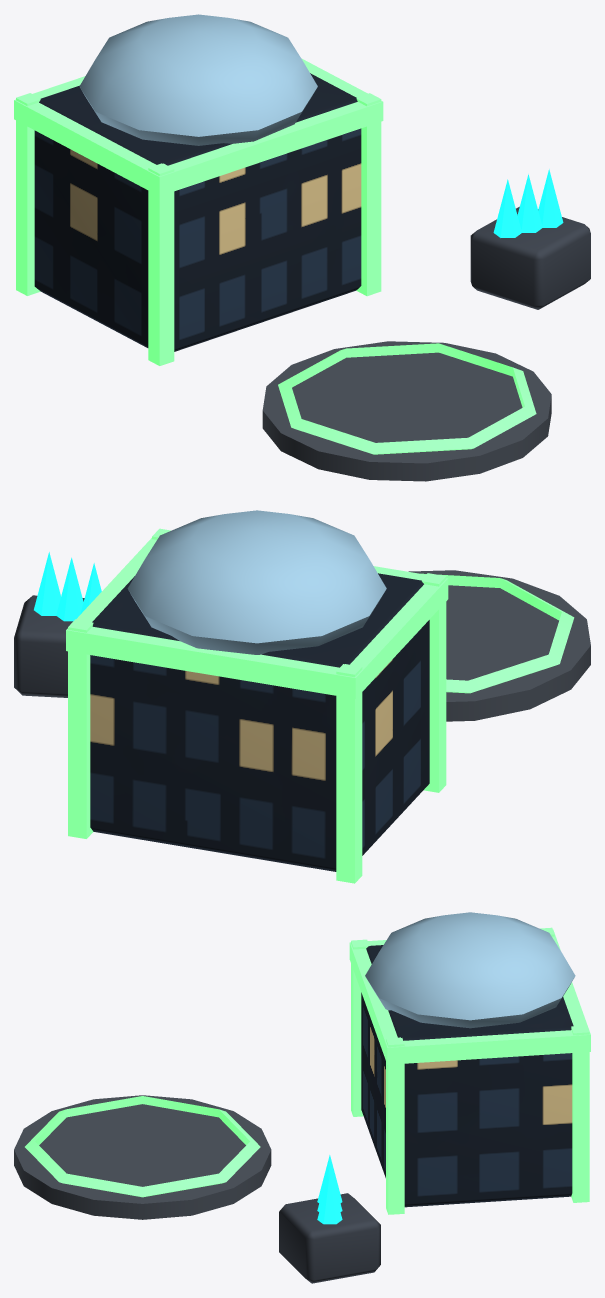
The model's file is homestead_scifi_green.glb.
3 views of the same model, one above another, from view 1: azimuth 30°, elevation 25°; view 2: azimuth 150°, elevation 25°; view 3: azimuth 270°, elevation 25° (orthographic). The views are drawn at different scales.
Parts seen in each view (by area): view 1: homestead_scifi_green; view 2: homestead_scifi_green; view 3: homestead_scifi_green.
Part boxes in pixels (<box>): homestead_scifi_green: <box>14,14,590,481</box>; homestead_scifi_green: <box>14,510,590,883</box>; homestead_scifi_green: <box>14,912,590,1283</box>.
Size of the model in its own units: 0.3835 by 0.215 by 0.4932.
3 materials, 1 textured.
